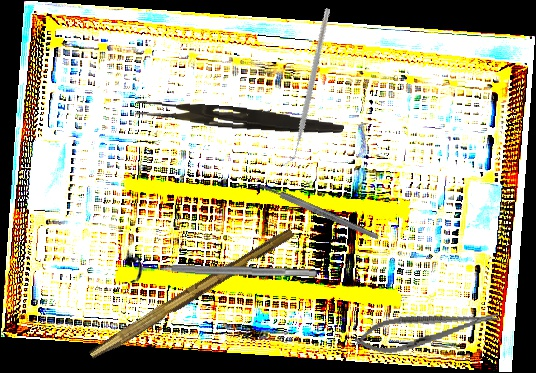Chopper: (238, 7, 373, 167)
Dressing Forceps: (135, 99, 345, 137)
Fixation Ring: (129, 255, 318, 288)
Needle Holder: (351, 299, 503, 361)
Scalpel Handle: (88, 223, 296, 366), (258, 181, 380, 242)
